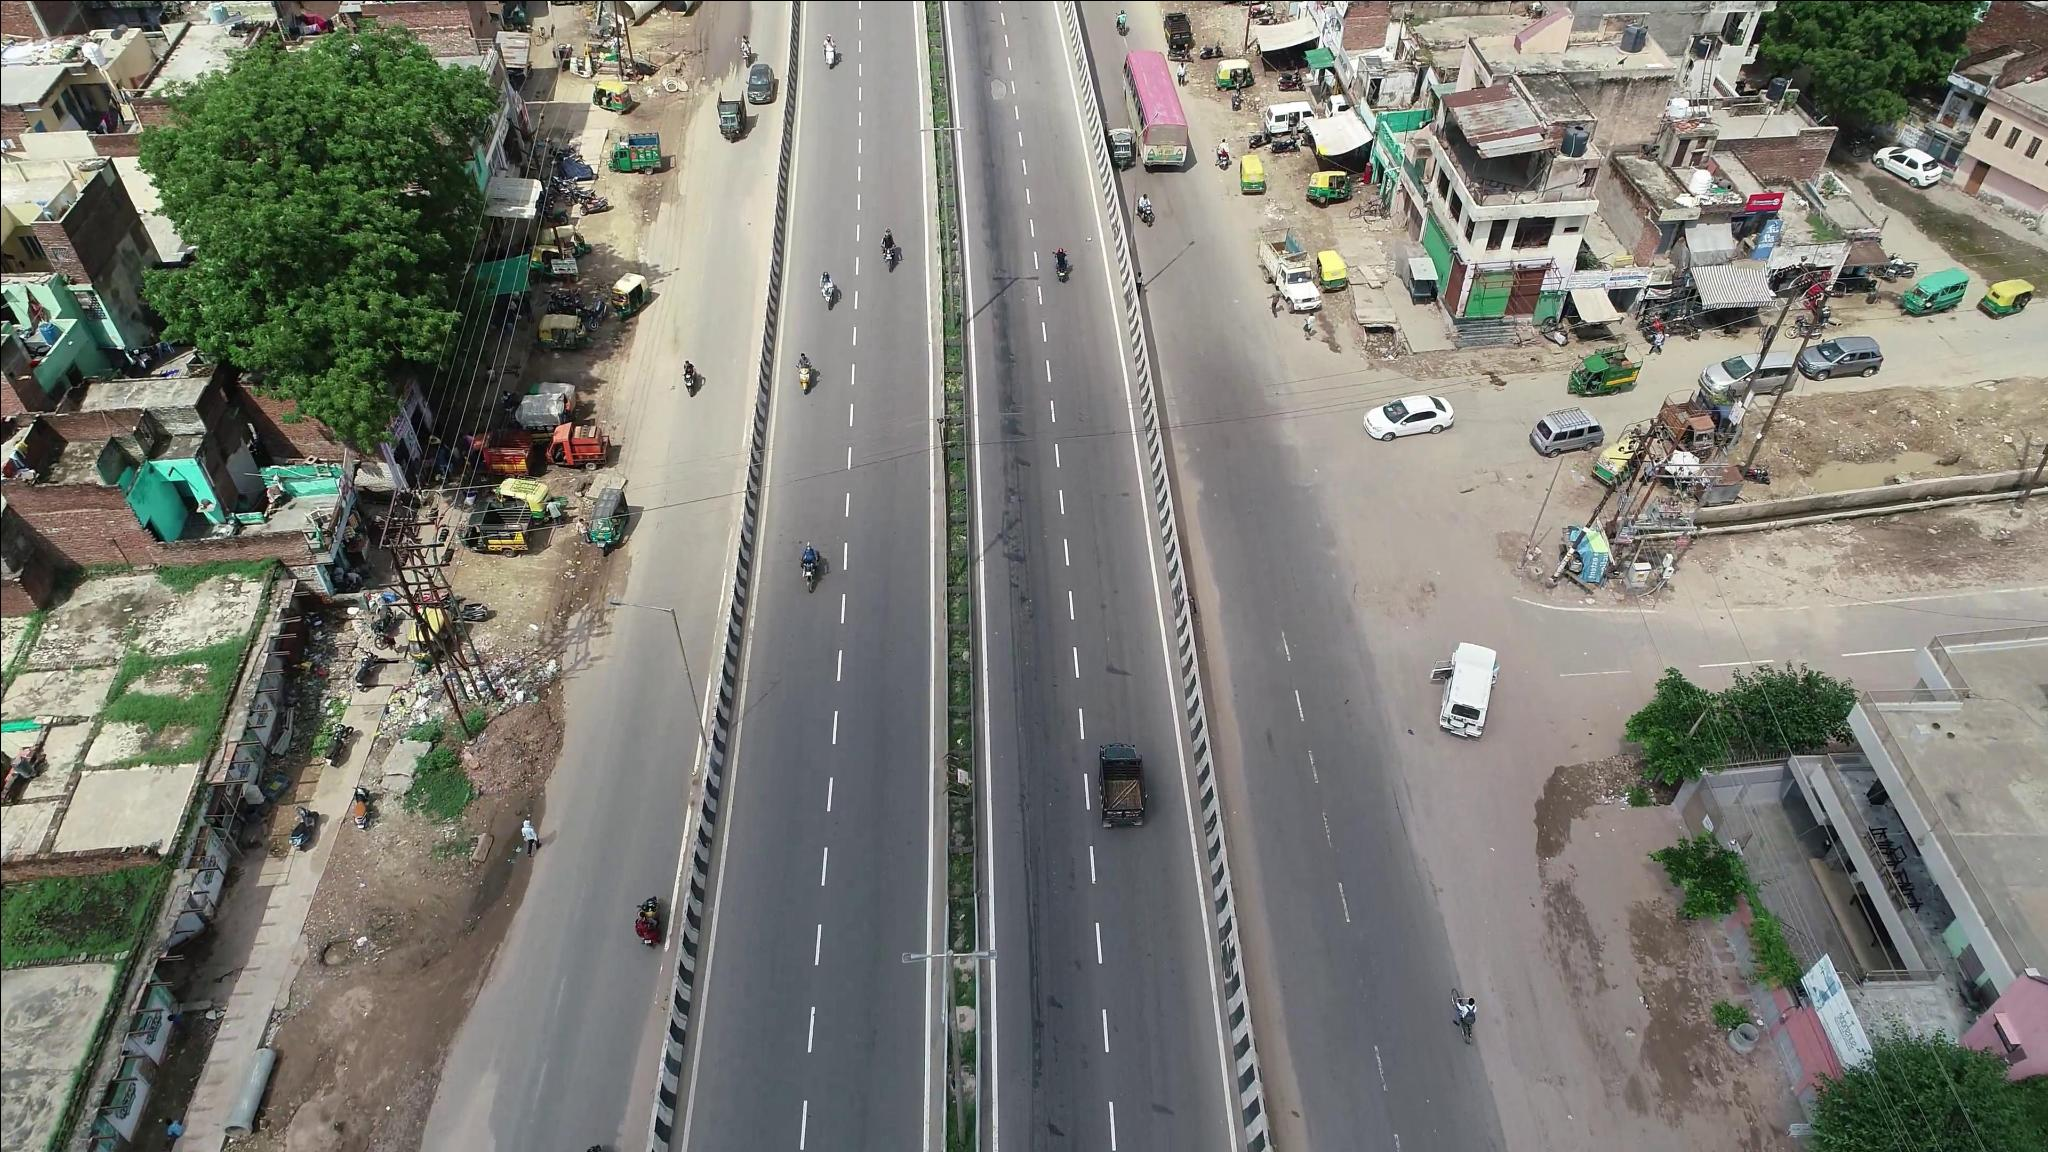Potholes: (980, 62, 1017, 111)
